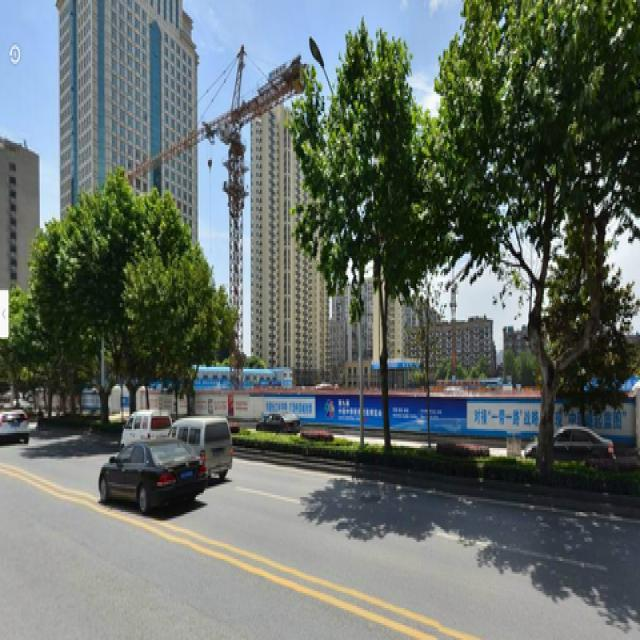meta: (294, 37, 449, 470)
